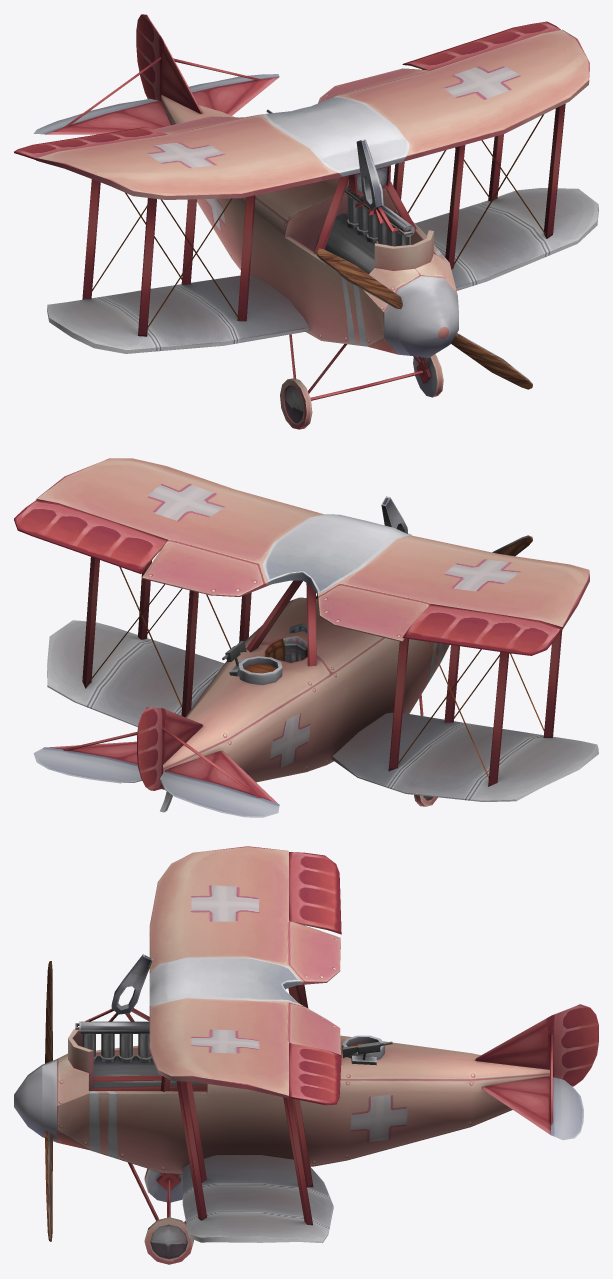
The model's file is AirPlane05.fbx.
3 views of the same model, one above another, from view 1: azimuth 30°, elevation 25°; view 2: azimuth 150°, elevation 25°; view 3: azimuth 270°, elevation 25° (orthographic). The views are drawn at different scales.
Visible parts, largest first — view 1: Stylized_EarlyRumplerIV, Propeller; view 2: Stylized_EarlyRumplerIV; view 3: Stylized_EarlyRumplerIV, Propeller.
Part boxes in pixels (x1,y1,x2,y2): Stylized_EarlyRumplerIV: (14, 14, 598, 429); Propeller: (316, 248, 532, 389); Stylized_EarlyRumplerIV: (14, 458, 598, 817); Stylized_EarlyRumplerIV: (42, 846, 598, 1264); Propeller: (14, 961, 52, 1241).
Bounding box in the file's own units: 213 × 109 × 212.
